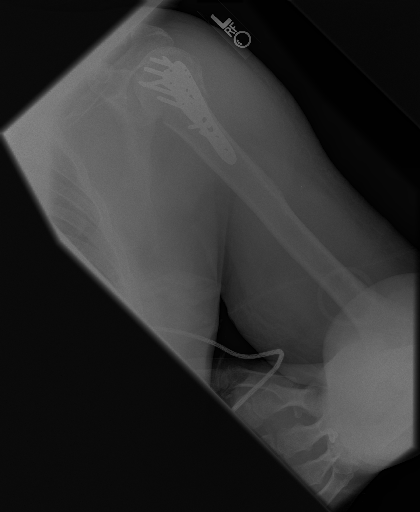implant: (139, 50, 241, 167)
